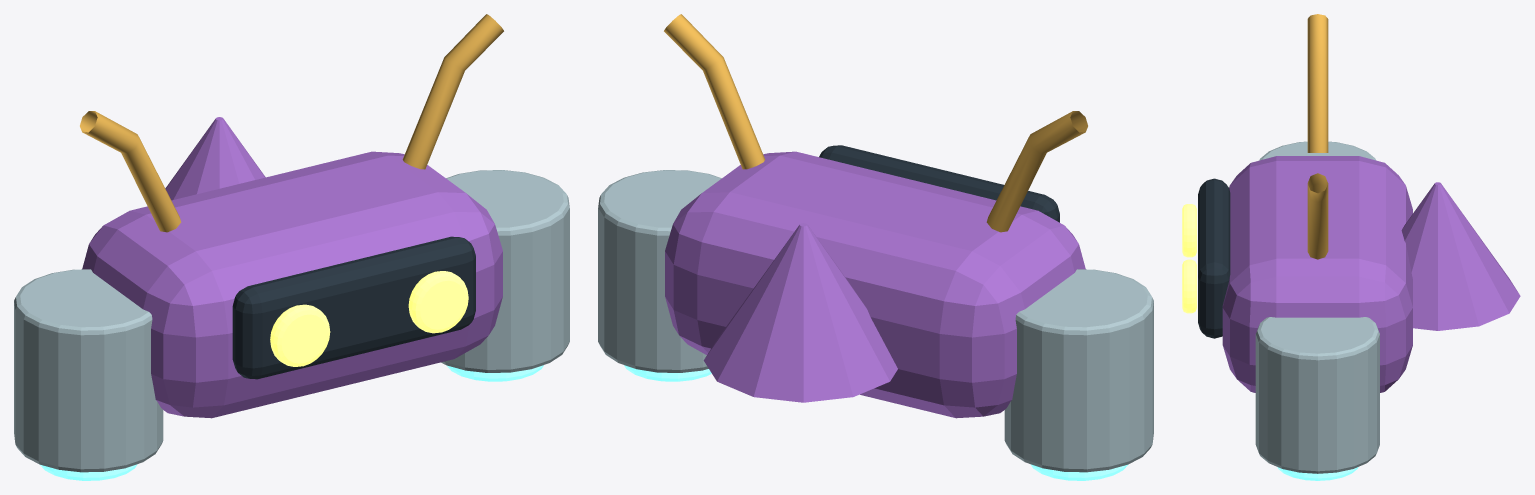
File: SM_FlyerSurvey.fbx
3 views of the same model, side by side, from view 1: azimuth 30°, elevation 25°; view 2: azimuth 150°, elevation 25°; view 3: azimuth 270°, elevation 25° (orthographic). The views are drawn at different scales.
Visible parts, largest first — view 1: SM_FlyerSurvey; view 2: SM_FlyerSurvey; view 3: SM_FlyerSurvey.
Part boxes in pixels (box(x1,y1,x2,y2)): SM_FlyerSurvey: box(14, 14, 569, 480); SM_FlyerSurvey: box(598, 14, 1153, 480); SM_FlyerSurvey: box(1182, 14, 1520, 480).
Bounding box in the file's own units: 124 × 81.75 × 77.01.
